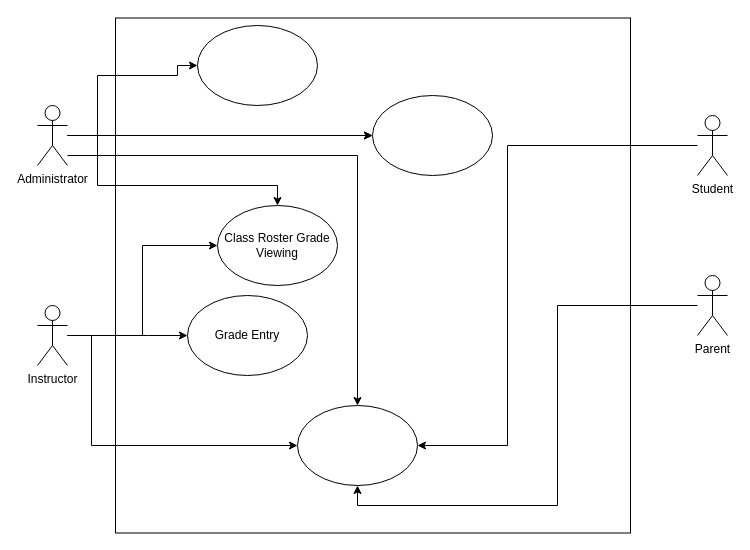
This 750x550 diagram has some shape labels left out. The box of each missing label's shape, as (x1, y1, x2, y2) in pixels:
Export and Import Grade File: (372, 94, 492, 176)
Student Management: (196, 24, 318, 106)
Student Specific Grade Viewing: (296, 404, 418, 486)
